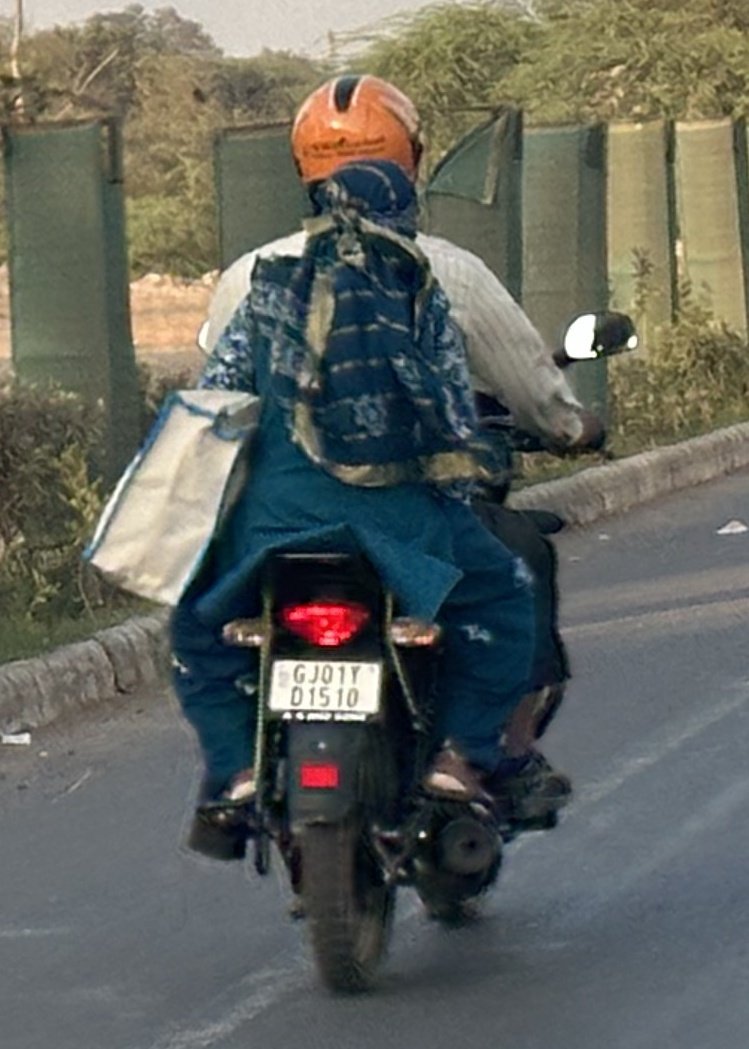BikeWithRider: (67, 61, 651, 1008)
Helmet: (273, 62, 444, 240)
